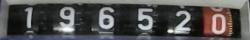digits: (173, 10, 191, 33), (136, 8, 153, 30), (98, 6, 114, 29), (58, 6, 75, 27), (210, 13, 226, 34), (23, 6, 33, 28)
